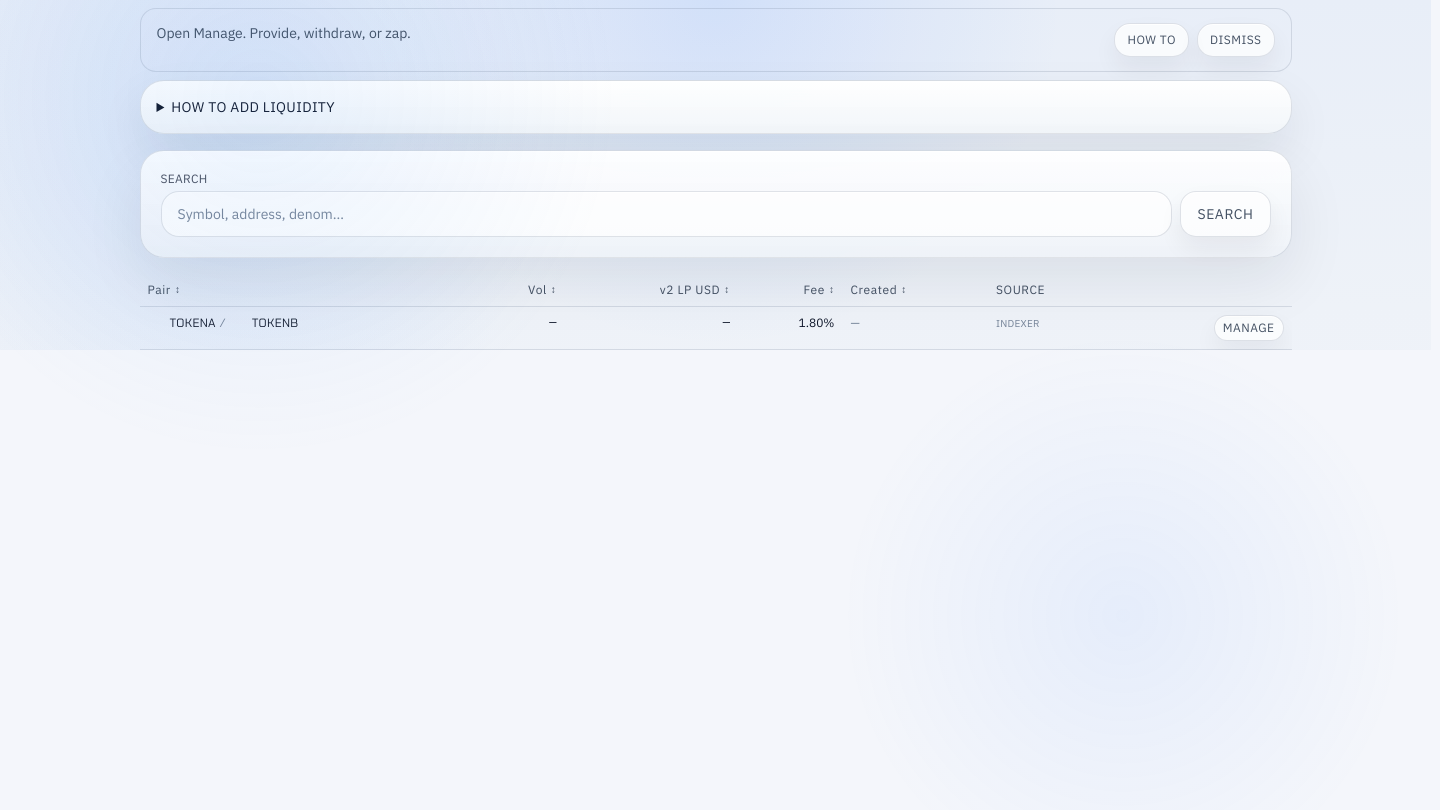
Test: PoolPage fee-discount UX (GitLab #476) › shows strikethrough discounted fee on the pool card when discount_bps > 0
The width and height of the screenshot is (1440, 810).
What coordinates should you click on to do the following:
click the button with test id "pool-row-manage"
I would click on:
 (1249, 328)
Its box is [1214,315,1284,341].
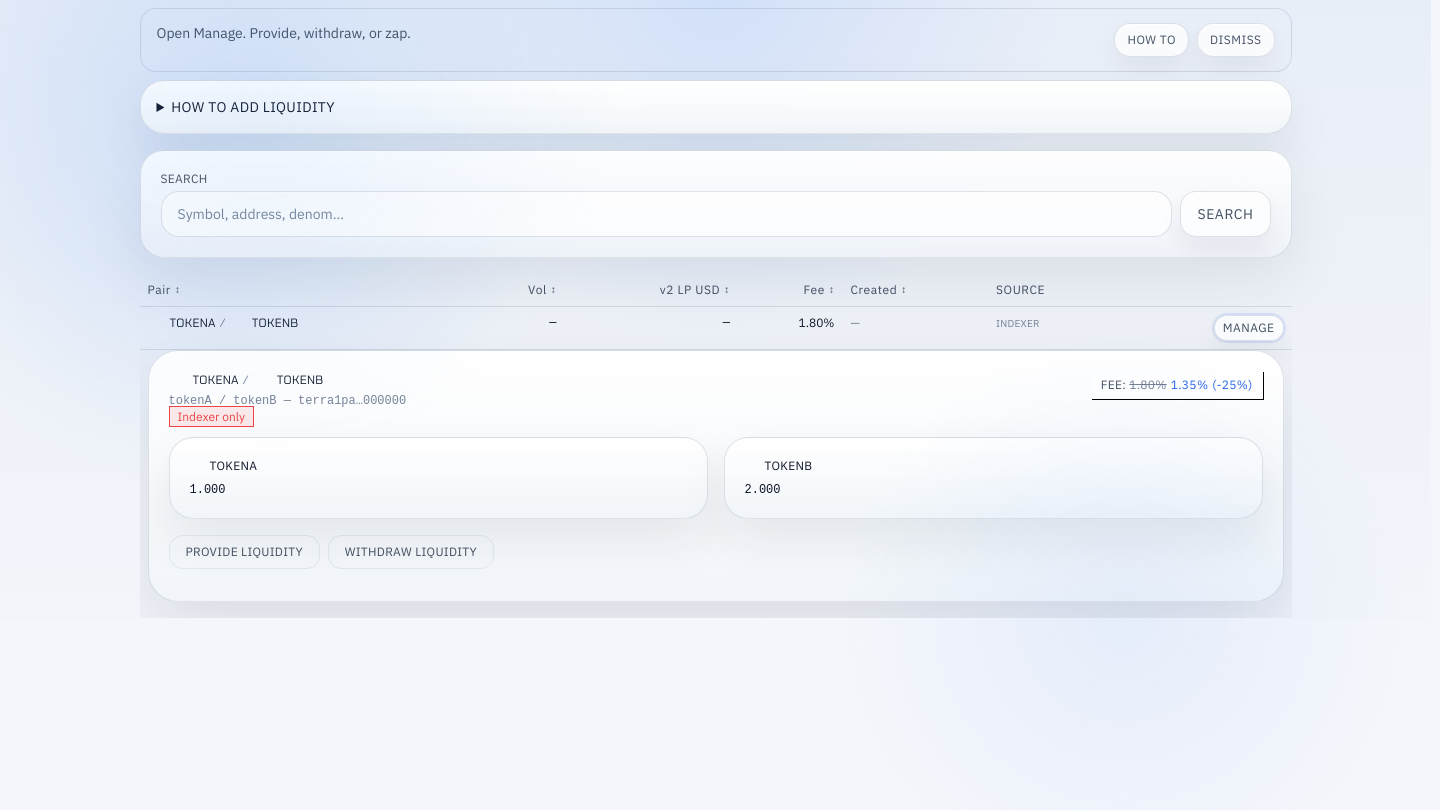
Expected: the element with test id "pool-fee-badge" shows "1.35%", [1091,371,1262,399]
Expected: the text with class "line-through" is shown, [1129,377,1167,392]
Expected: the element with test id "pool-fee-badge" shows "1.80%", [1091,371,1262,399]
